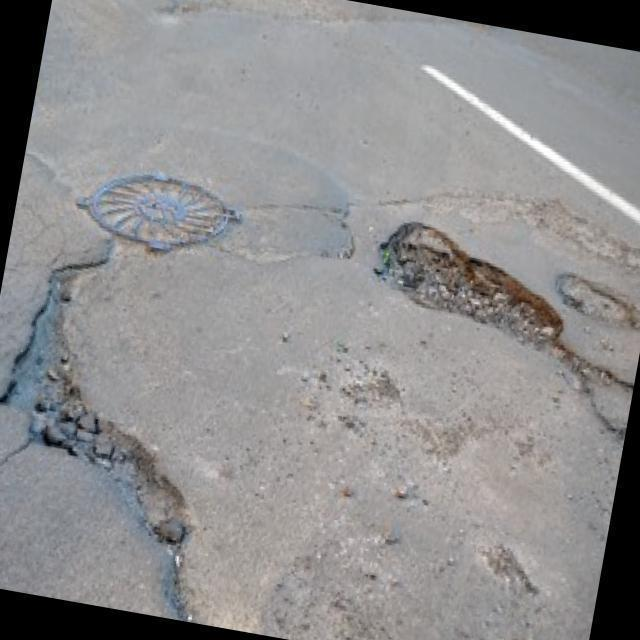pothole: (0, 247, 235, 552), (364, 214, 578, 362), (551, 270, 639, 334)
